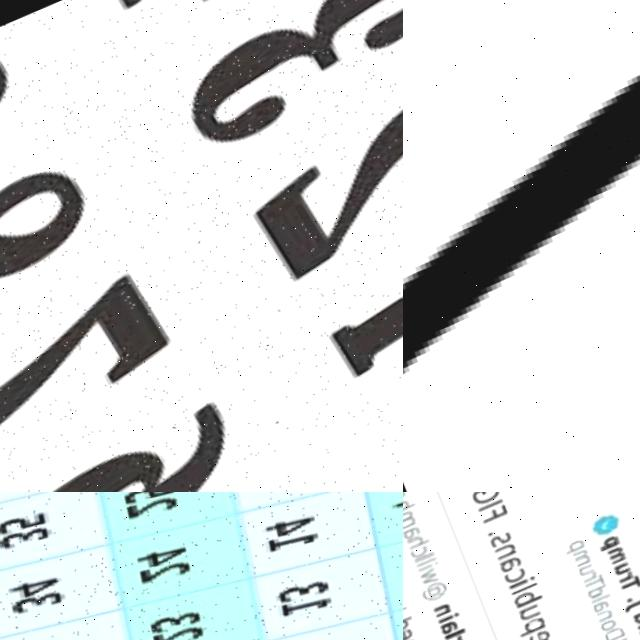1: (403, 0, 640, 492), (305, 193, 403, 399), (269, 586, 339, 633), (262, 522, 325, 567), (245, 492, 319, 506)
2: (228, 56, 403, 295), (137, 551, 200, 596), (120, 492, 189, 533), (144, 615, 210, 640)
3: (156, 0, 403, 169), (268, 565, 344, 620), (7, 578, 75, 628), (0, 513, 62, 565), (145, 599, 211, 640), (11, 628, 82, 640)
4: (104, 0, 392, 53), (253, 499, 335, 557), (132, 536, 196, 581), (5, 567, 65, 610)
5: (0, 502, 52, 544), (117, 492, 180, 517)
6: (0, 379, 277, 492)
7: (0, 256, 209, 489)
8: (0, 139, 120, 357)
9: (0, 25, 46, 226)
A: (496, 558, 523, 579), (436, 621, 459, 640), (403, 527, 421, 544), (590, 603, 610, 618)
B: (513, 589, 546, 614), (403, 500, 414, 515)
C: (502, 570, 527, 590), (408, 547, 428, 563)
D: (586, 588, 610, 605), (601, 628, 625, 640), (403, 618, 415, 637), (631, 612, 640, 630)
E: (525, 631, 551, 640), (403, 629, 414, 640)
F: (479, 507, 509, 527)
G: (470, 492, 502, 510)
H: (404, 535, 429, 554)
I: (508, 578, 536, 594), (477, 502, 504, 515), (437, 614, 460, 628), (416, 564, 439, 576)
J: (621, 600, 640, 619), (403, 608, 409, 625)
L: (511, 586, 538, 600), (589, 597, 611, 609), (414, 560, 437, 571), (412, 556, 434, 567), (443, 630, 465, 640)
M: (570, 551, 594, 573), (606, 550, 628, 571), (403, 511, 417, 534)
N: (492, 545, 517, 566), (433, 604, 452, 622), (594, 613, 613, 627)
O: (597, 621, 617, 638)
P: (515, 619, 547, 640), (597, 538, 620, 556), (562, 542, 586, 559)
R: (580, 575, 598, 588), (616, 576, 634, 588), (443, 637, 463, 640)
S: (487, 533, 512, 553)
T: (581, 575, 606, 597), (617, 579, 640, 599)
U: (516, 606, 541, 628), (576, 566, 596, 583), (611, 566, 631, 581)
W: (418, 569, 440, 590)
